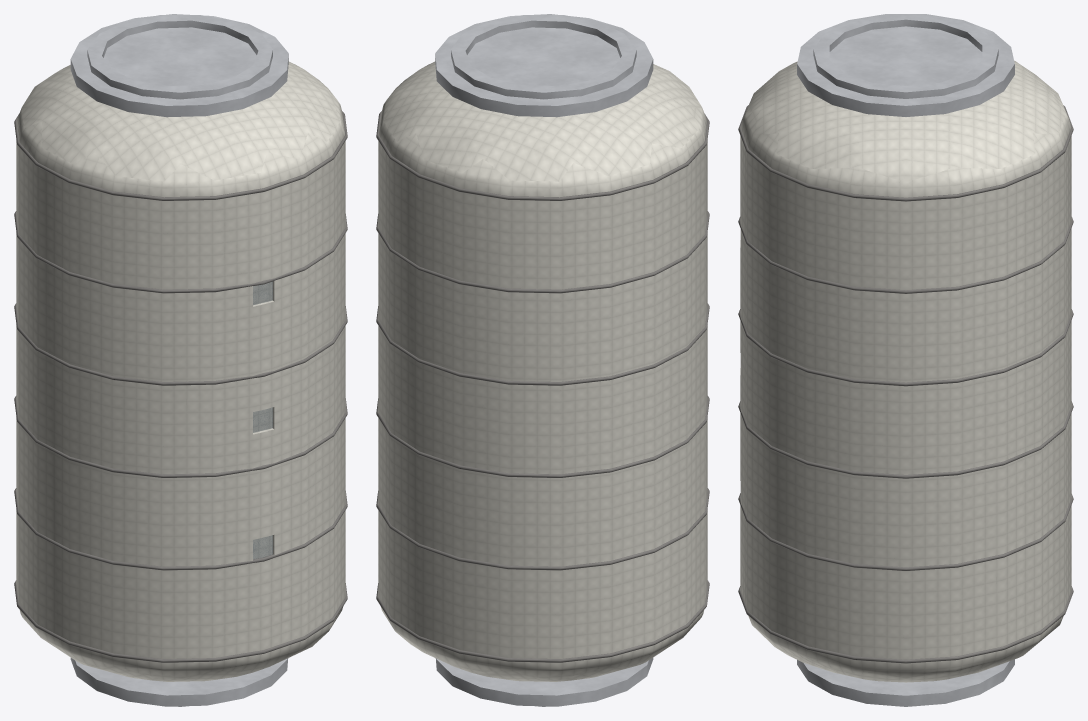
The model's file is station02_b330_deployed.glb.
3 renders of one model, left to right at view 1: azimuth 30°, elevation 25°; view 2: azimuth 150°, elevation 25°; view 3: azimuth 270°, elevation 25°, orthographic.
Parts seen in each view (by area): view 1: softgoods, end_bulkheads, restraint_straps, windows; view 2: softgoods, end_bulkheads, restraint_straps; view 3: softgoods, end_bulkheads, restraint_straps.
Part boxes in pixels (box(x1,y1,x2,y2)): softgoods: box(16, 61, 345, 681); end_bulkheads: box(70, 14, 288, 706); restraint_straps: box(14, 111, 347, 662); windows: box(253, 281, 272, 558); softgoods: box(378, 61, 707, 681); end_bulkheads: box(435, 14, 653, 706); restraint_straps: box(376, 111, 709, 662); softgoods: box(740, 60, 1071, 682); end_bulkheads: box(797, 14, 1014, 706); restraint_straps: box(738, 105, 1073, 663).
Size of the model in its own units: 6.78 by 13.7 by 6.78.
4 materials, 3 textured.
